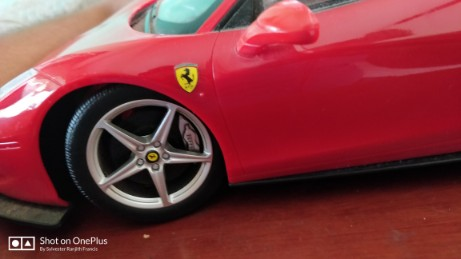unaligned_wheel: (44, 87, 266, 225)
